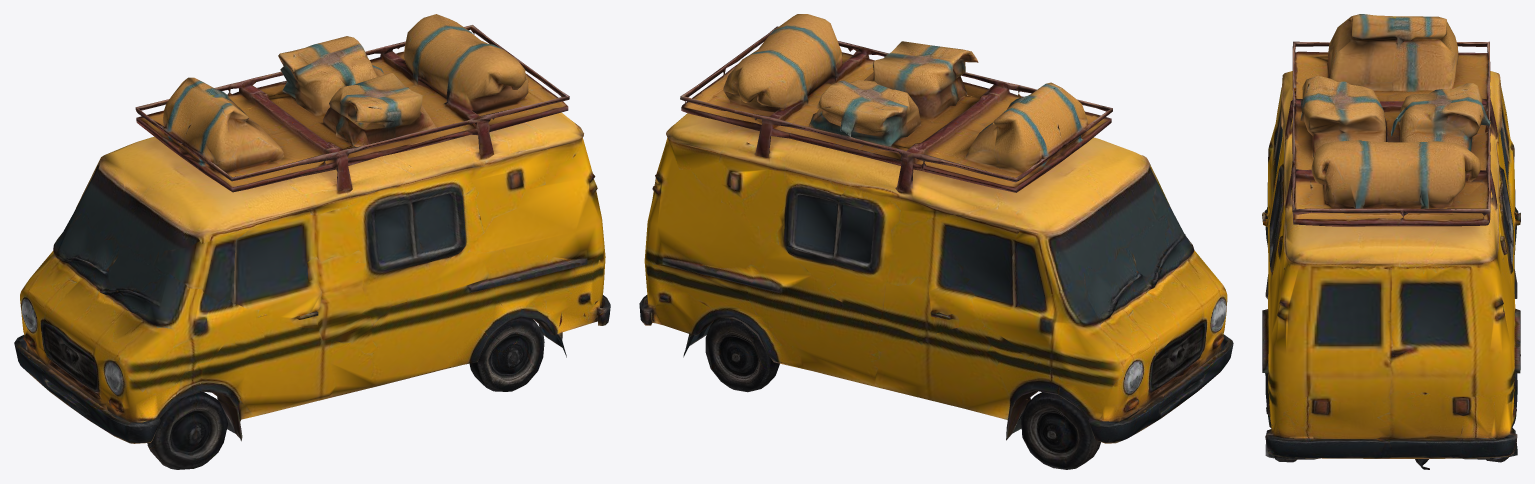
The model's file is danfo.glb.
The picture shows the model from 3 angles, left to right: view 1: azimuth 30°, elevation 25°; view 2: azimuth 150°, elevation 25°; view 3: azimuth 270°, elevation 25°; orthographic projection. The views are drawn at different scales.
Size of the model in its own units: 1.9 by 1.16 by 0.8438.
1 material, 1 textured.
